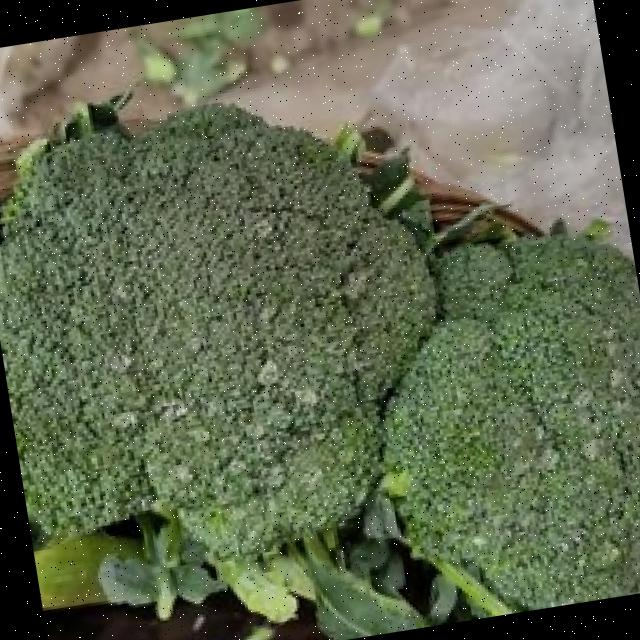Broccoli: (0, 101, 436, 556), (0, 110, 434, 554), (384, 236, 640, 610), (386, 242, 640, 610)
